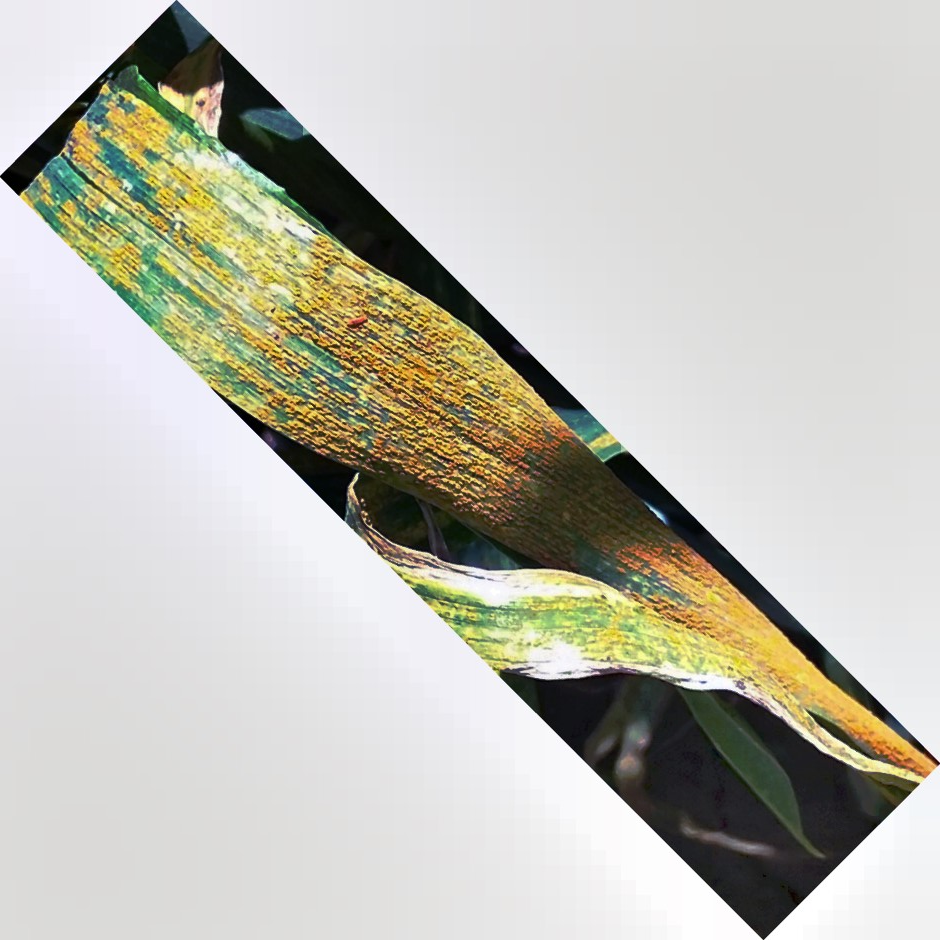Leaf Rust: (51, 139, 570, 528)
